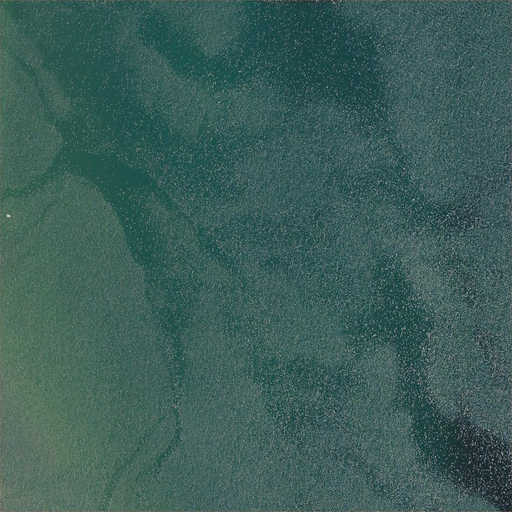ship: (3, 211, 11, 221)
